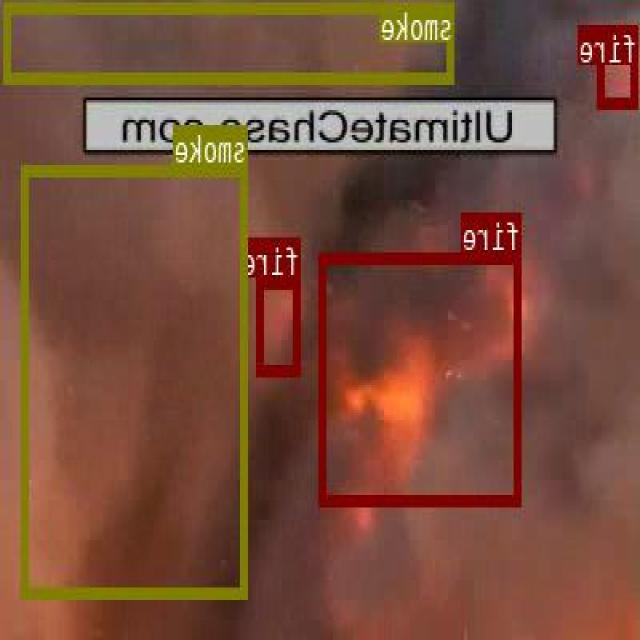fire: (322, 252, 522, 504), (258, 278, 301, 372), (600, 24, 639, 107)
smoke: (23, 165, 250, 596), (6, 2, 456, 82)
